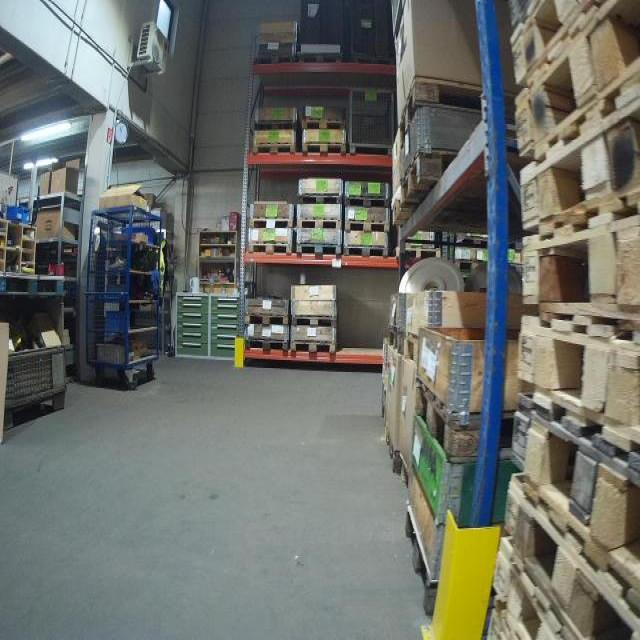pallet: (530, 414, 635, 591), (514, 479, 630, 634), (519, 10, 635, 143), (521, 95, 636, 223), (521, 322, 638, 443), (516, 230, 635, 319), (398, 69, 480, 149), (412, 381, 481, 461), (402, 512, 436, 615), (403, 150, 457, 211), (294, 241, 343, 257), (291, 313, 338, 329), (344, 193, 390, 209), (246, 240, 294, 255), (248, 215, 295, 230), (300, 140, 346, 155), (289, 340, 338, 354), (296, 191, 344, 205), (300, 118, 346, 132), (344, 221, 391, 234), (296, 218, 341, 231), (343, 244, 388, 257), (394, 247, 442, 259), (244, 314, 288, 327), (245, 339, 290, 351), (253, 119, 297, 131), (351, 55, 397, 66), (252, 144, 297, 155), (297, 54, 344, 63), (457, 236, 489, 248), (257, 54, 296, 63), (452, 263, 484, 271)
small_load_carrier: (7, 203, 31, 218)
stillage: (1, 343, 74, 432), (346, 87, 393, 153)
